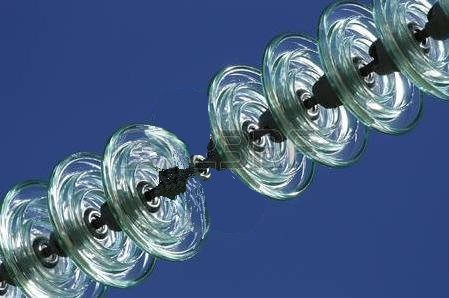gap: (99, 61, 315, 263)
